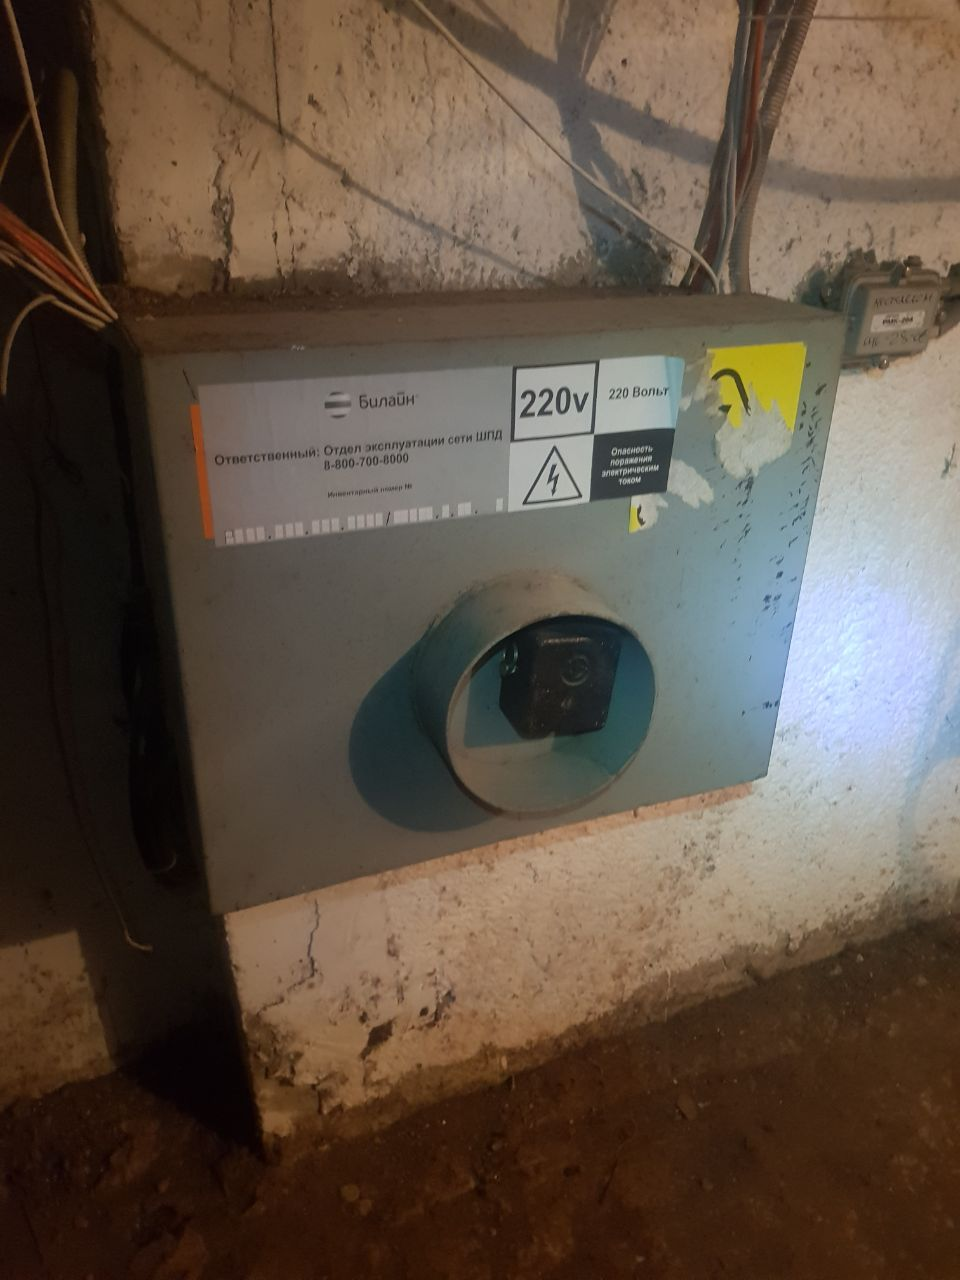shta-3: (116, 285, 850, 909)
